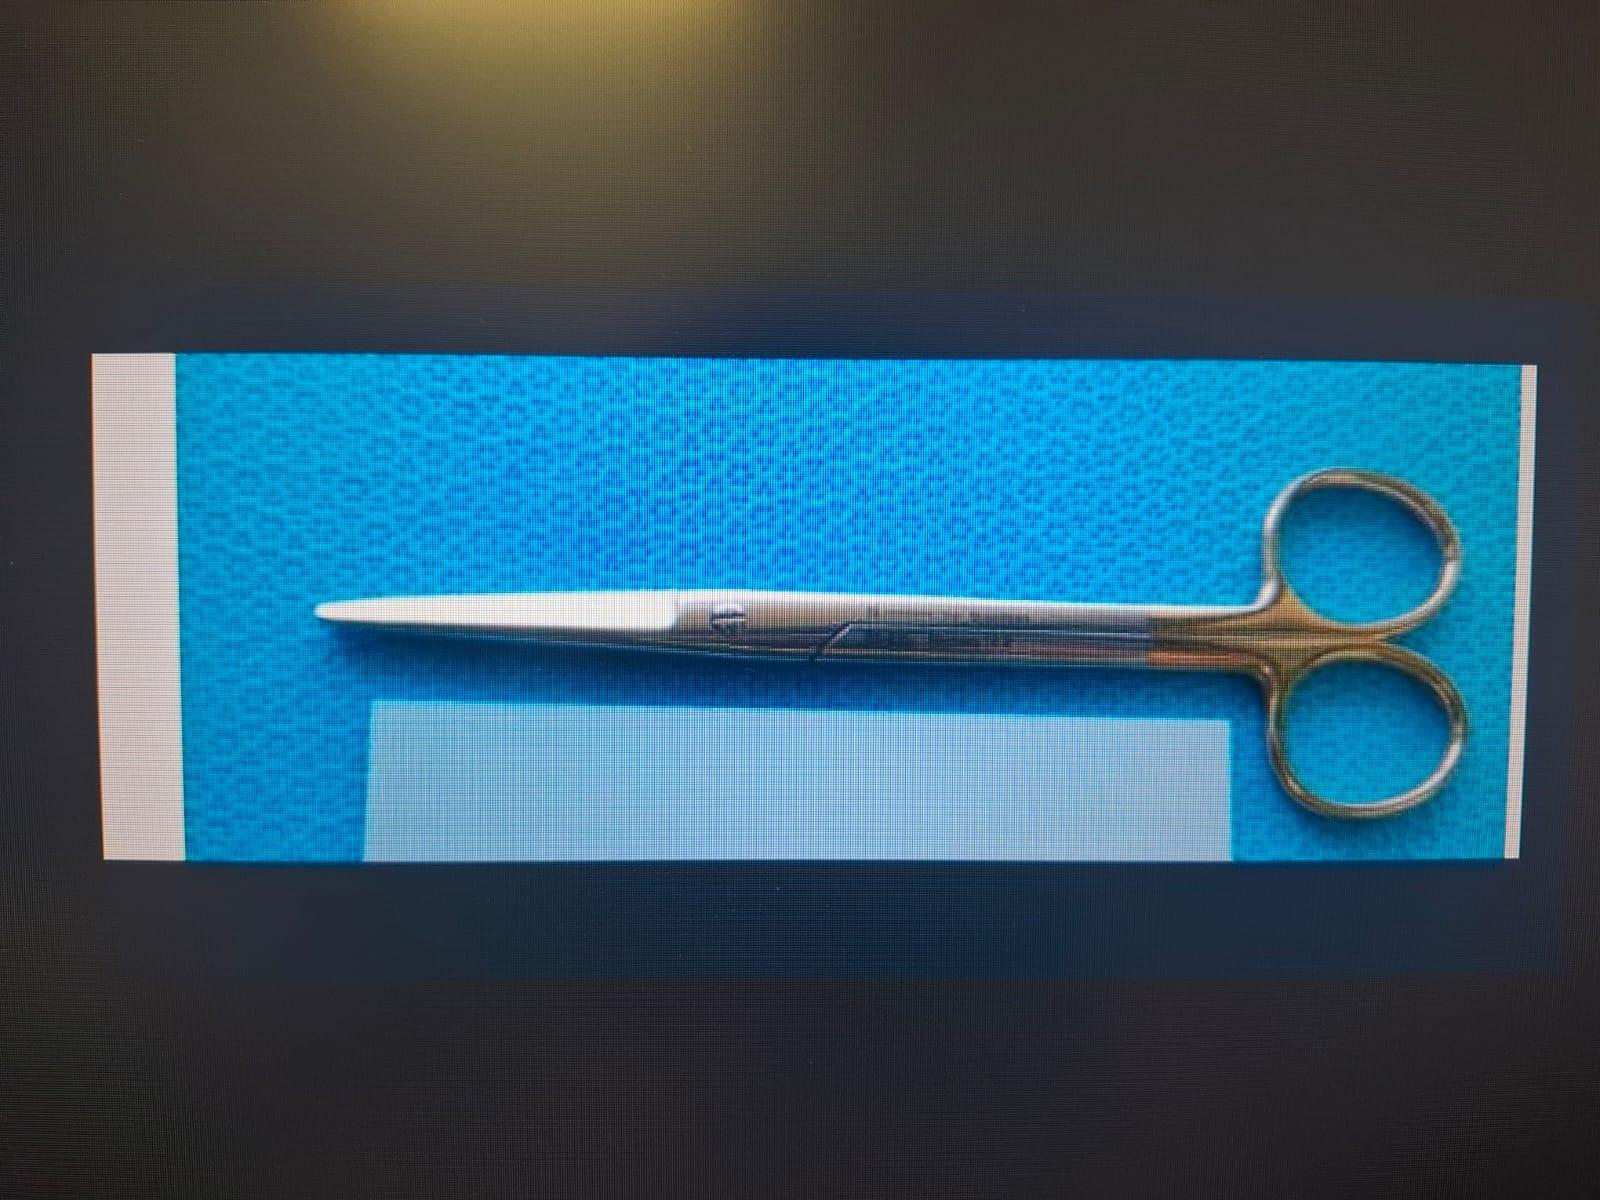Knife Blade: (310, 444, 1474, 824)
